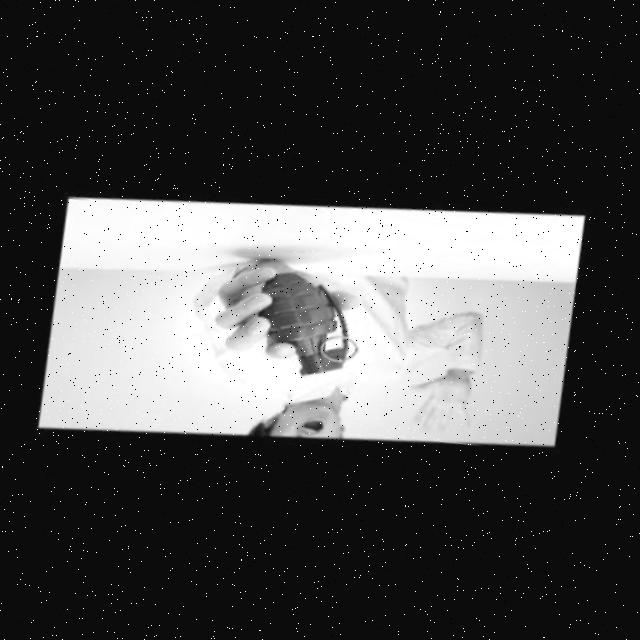grenade: (214, 251, 386, 399)
